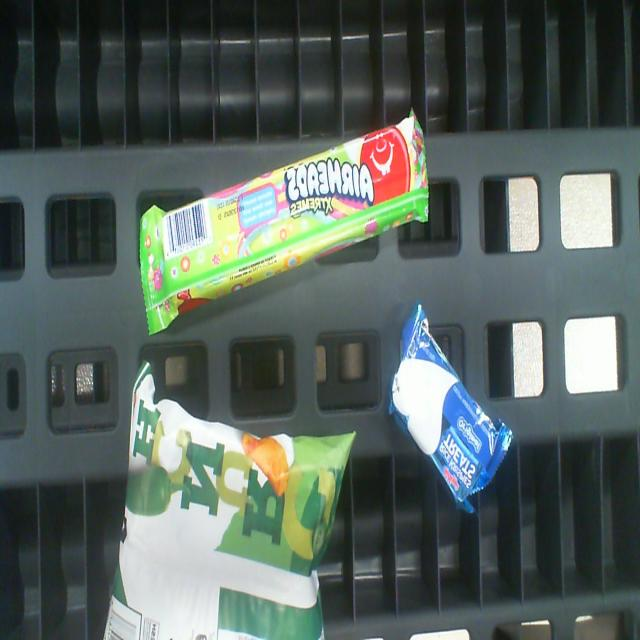snack: (102, 369, 353, 640), (148, 119, 424, 340), (394, 304, 503, 499)
